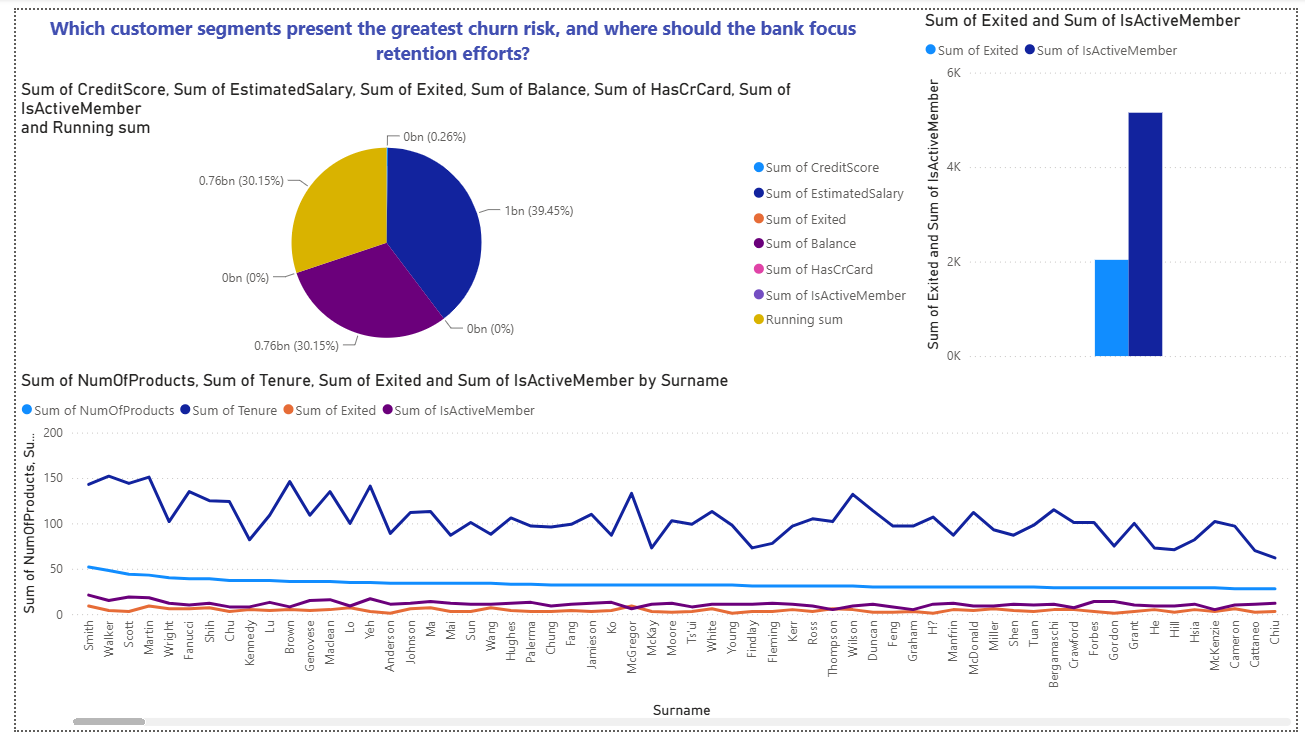

This screenshot's page, from the dashboard's own definition file:
{"tool":"powerbi","page":{"name":"Executive Overview","canvas":[1280,720],"ordinal":0},"visuals":[{"type":"pieChart","fields":{"Y":["Sum(Bank_Churn.CreditScore)","Sum(Bank_Churn.EstimatedSalary)","Sum(Bank_Churn.Exited)","Sum(Bank_Churn.Balance)","Sum(Bank_Churn.HasCrCard)","Sum(Bank_Churn.IsActiveMember)","select"]},"box":[0,69.1,904.5,290],"z":0},{"type":"lineChart","fields":{"Category":["Bank_Churn.Surname"],"Y":["Sum(Bank_Churn.NumOfProducts)","Sum(Bank_Churn.Tenure)","Sum(Bank_Churn.Exited)","Sum(Bank_Churn.IsActiveMember)"]},"box":[0,359.5,1280.3,360.9],"z":1000},{"type":"clusteredColumnChart","fields":{"Y":["Sum(Bank_Churn.Exited)","Sum(Bank_Churn.IsActiveMember)"]},"box":[904,0,376,360],"z":2000},{"type":"textbox","box":[0,0,873.6,62.7],"z":2001}]}

Visuals, with their boxes in screenshot pixels (x1, y1, x2, y2), scaled from the page's 1280x720 canvas onto the 1305x735 screenshot:
pieChart - Sum(Bank_Churn.CreditScore) x Sum(Bank_Churn.EstimatedSalary): rect(0, 71, 922, 367)
lineChart - Bank_Churn.Surname x Sum(Bank_Churn.NumOfProducts): rect(0, 367, 1304, 734)
clusteredColumnChart - Sum(Bank_Churn.Exited) x Sum(Bank_Churn.IsActiveMember): rect(922, 0, 1304, 368)
textbox: rect(0, 0, 891, 64)
